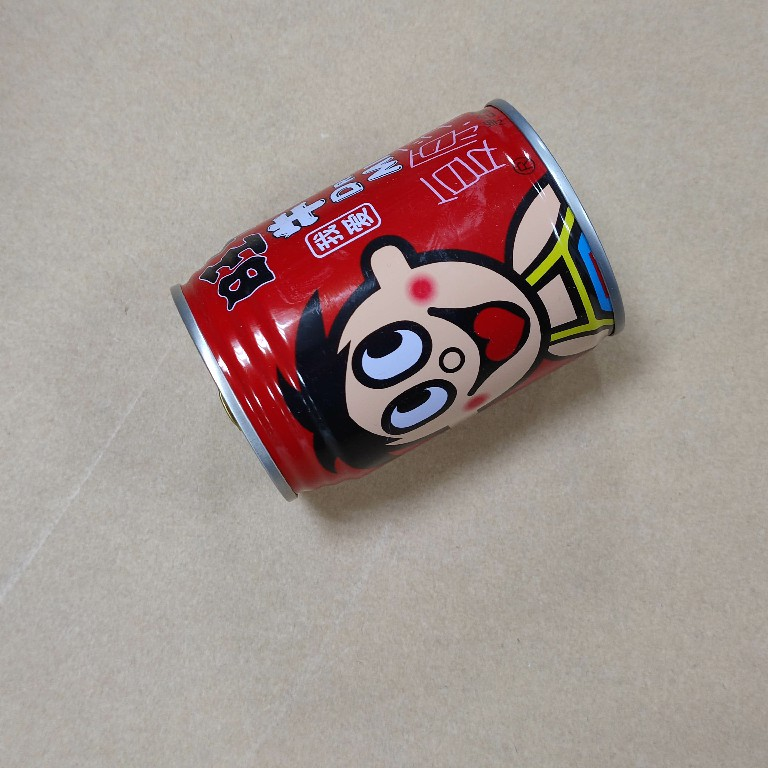can: (164, 96, 633, 504)
